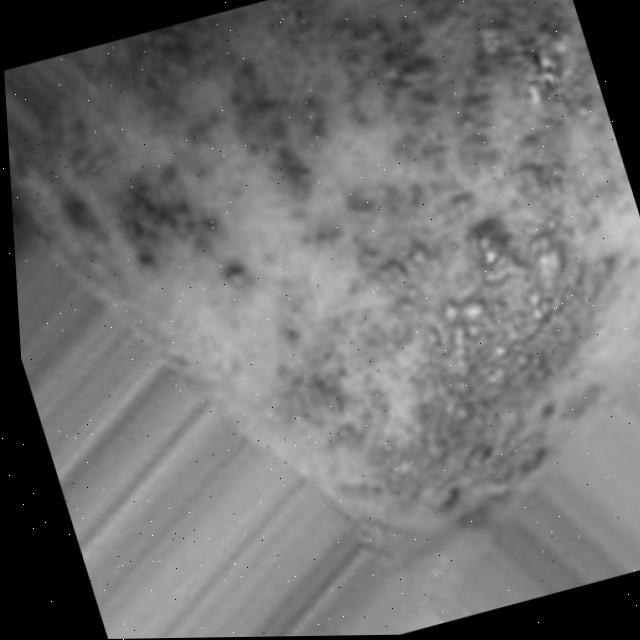Shingles: (49, 0, 640, 570)
